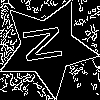N: (22, 22, 73, 65)
